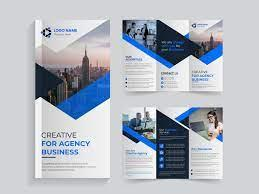paper: (35, 20, 110, 179), (122, 18, 223, 92), (122, 109, 223, 179)
